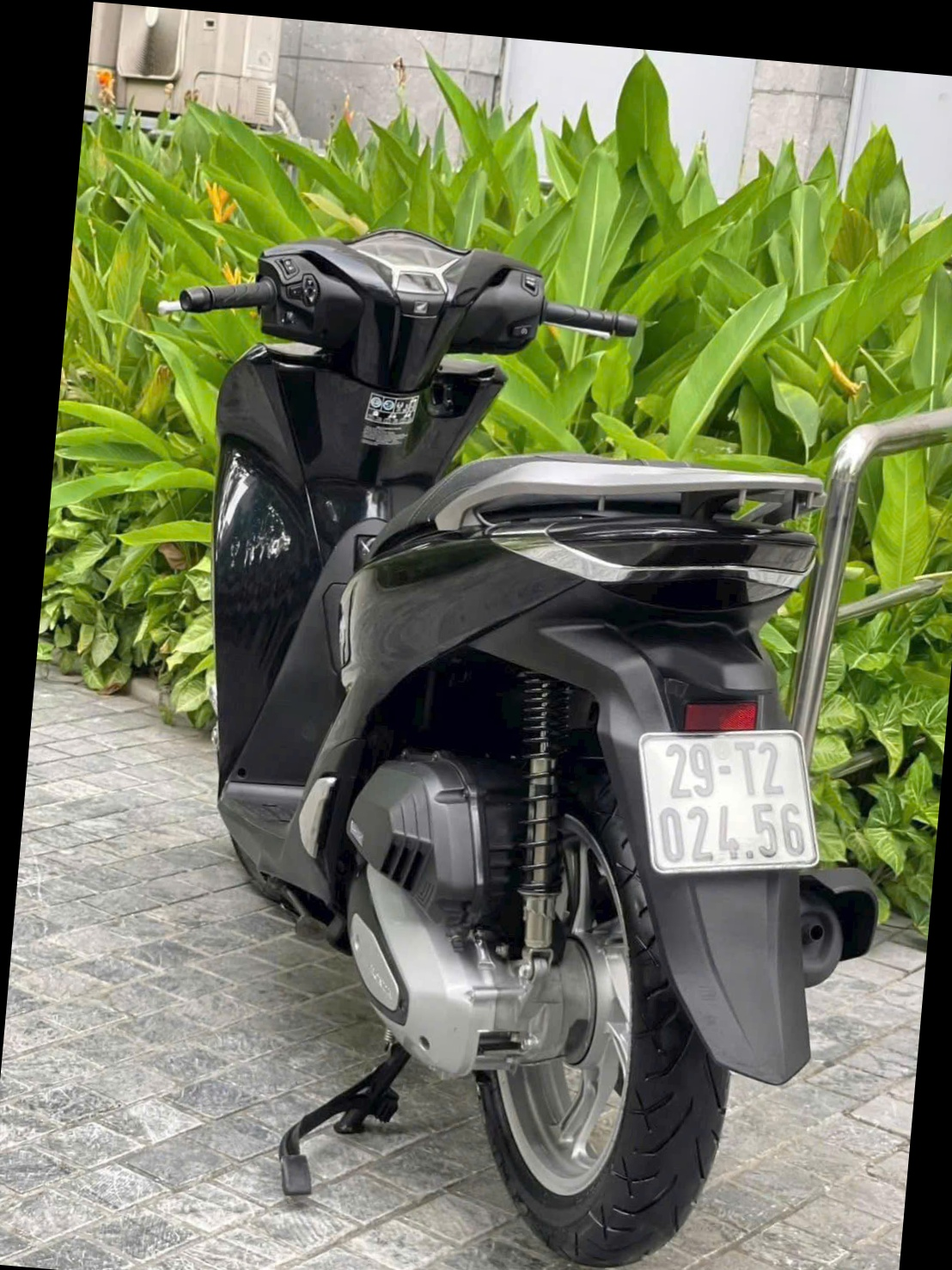Bien-so: (636, 657, 842, 824)
